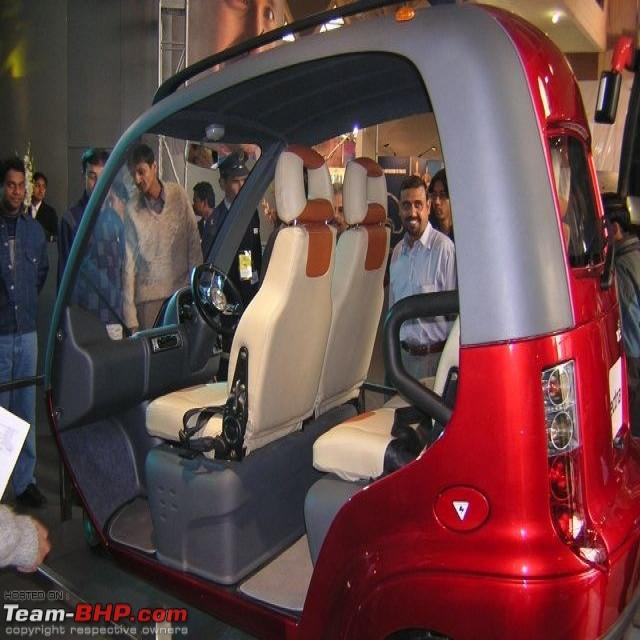autorickshaw: (45, 3, 640, 638)
